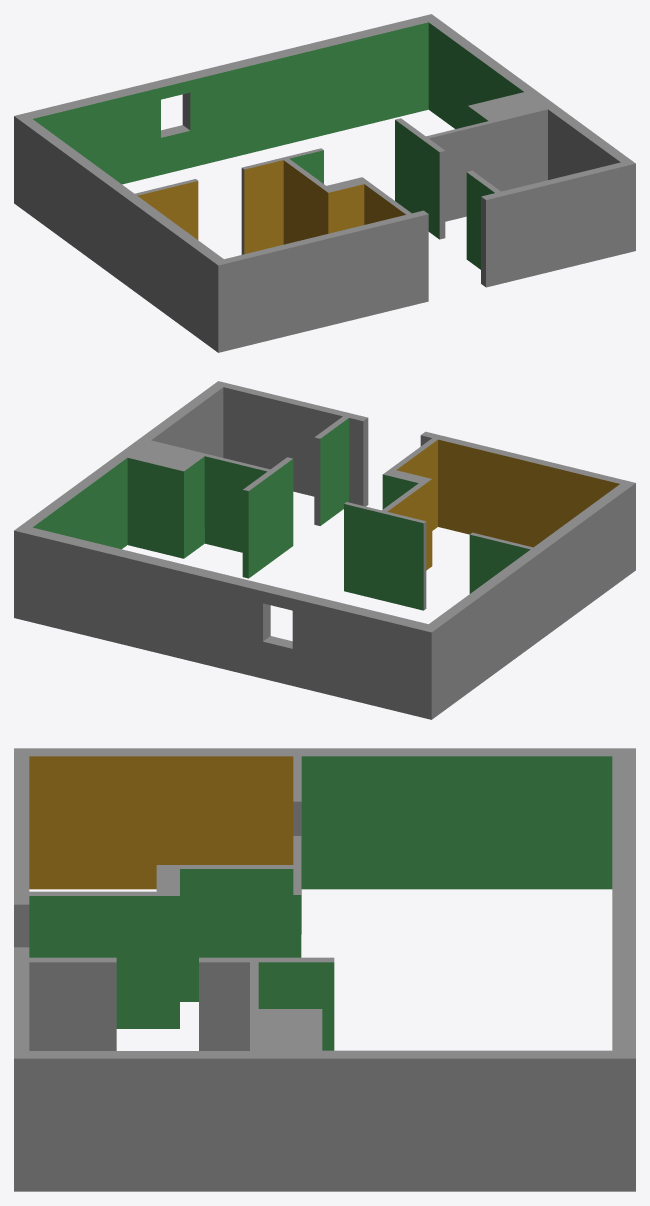
File: WallsHome.fbx
3 views of the same model, one above another, from view 1: azimuth 30°, elevation 25°; view 2: azimuth 150°, elevation 25°; view 3: azimuth 270°, elevation 25° (orthographic). The views are drawn at different scales.
Visible parts, largest first — view 1: Walls; view 2: Walls; view 3: Walls.
Part boxes in pixels (<box>): Walls: <box>14,14,635,352</box>; Walls: <box>14,381,635,719</box>; Walls: <box>14,748,635,1191</box>.
Bounding box in the file's own units: 1006 × 201 × 852.
